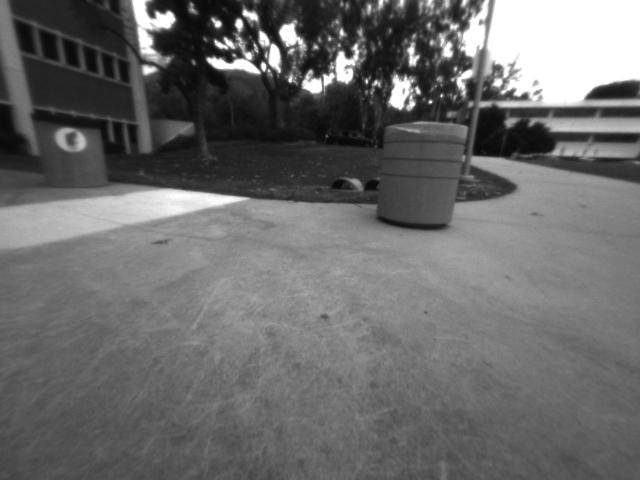trashcan: (374, 106, 469, 241), (26, 95, 115, 198)
